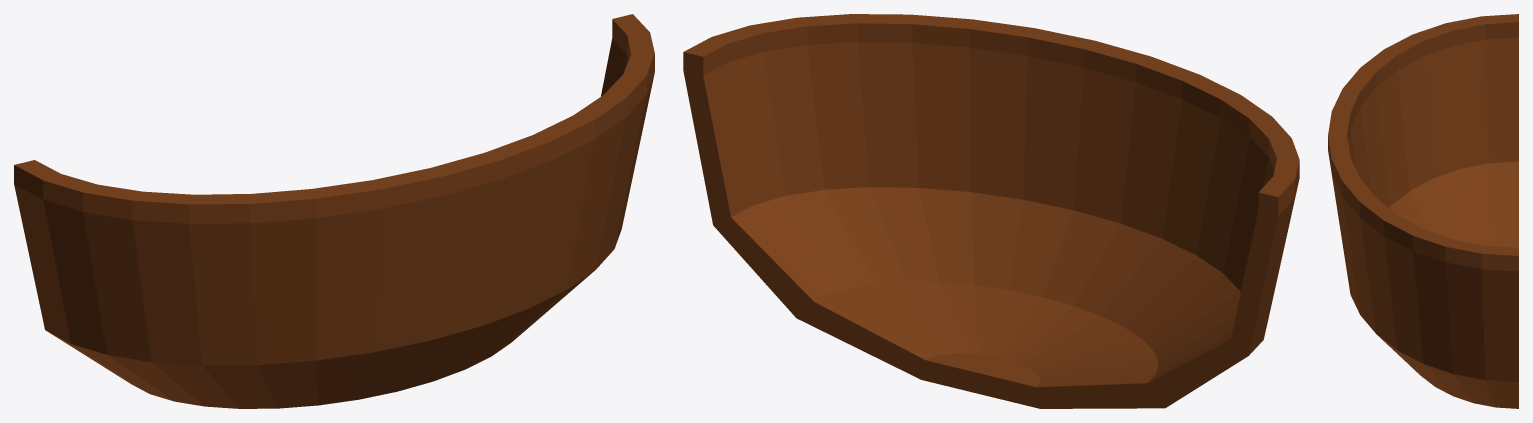
File: BOTTOM_STERN.obj
3 renders of one model, left to right at view 1: azimuth 30°, elevation 25°; view 2: azimuth 150°, elevation 25°; view 3: azimuth 270°, elevation 25°, orthographic. The views are drawn at different scales.
Size of the model in its own units: 6 by 2.6 by 2.
